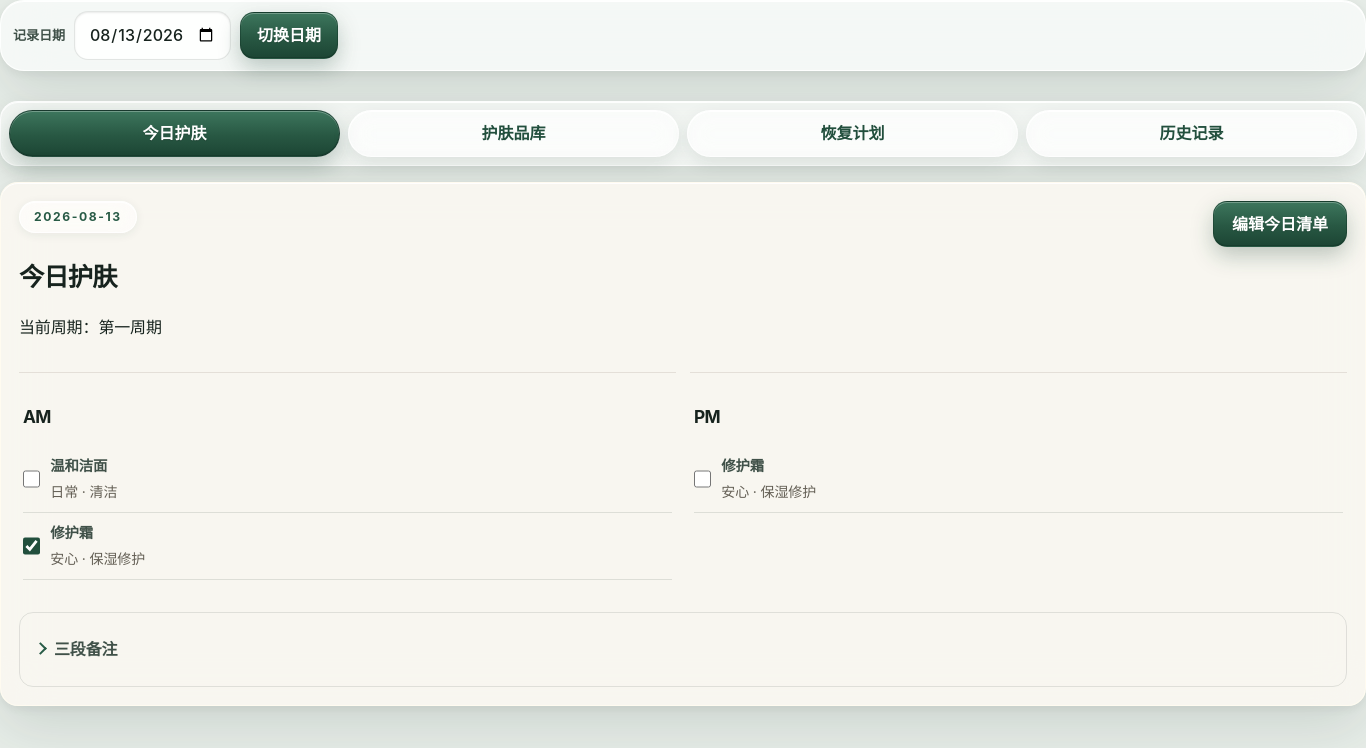
Test: ManualSkincareWorkspace › shows natural-day countdown facts and starts a custom-duration cycle only after confirmation
This screenshot has width=1366, height=748.
Click the tab "恢复计划": (852, 133) [687,110,1018,157]
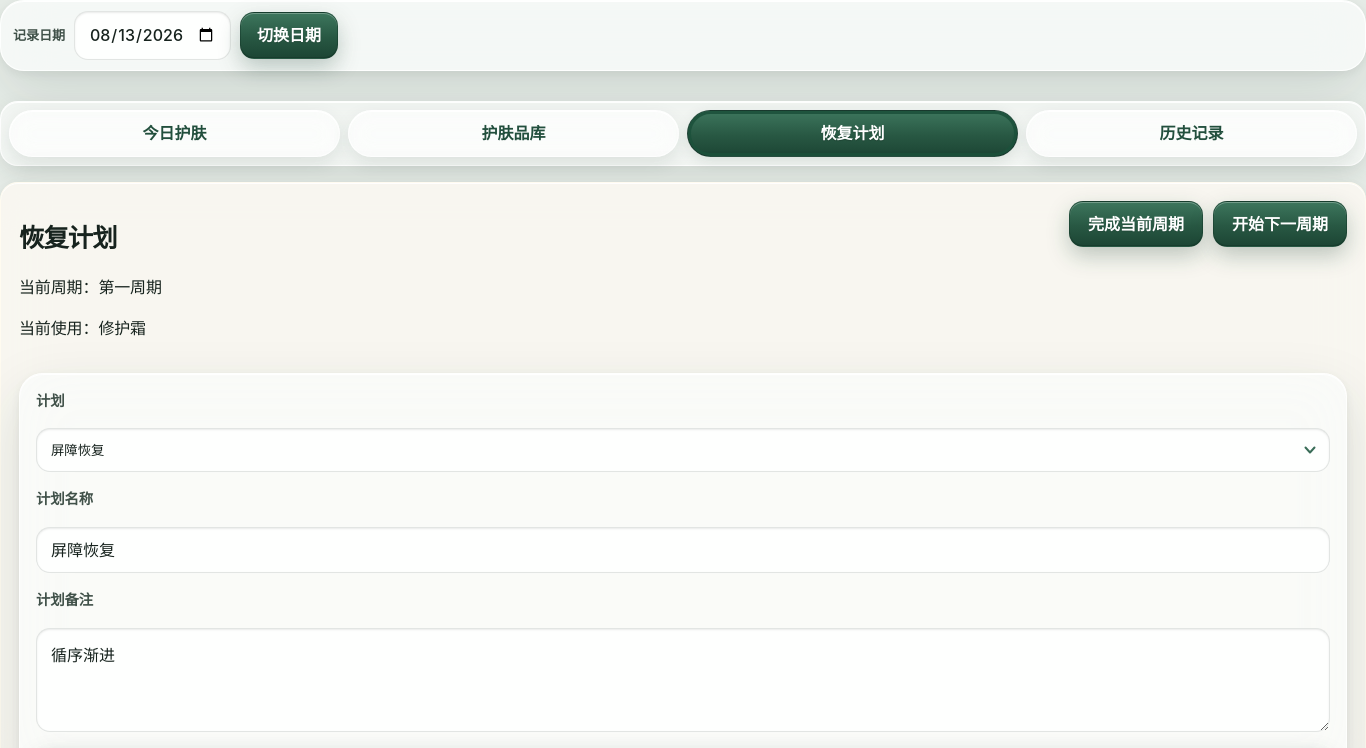
Check: the text "当前使用：修护霜" is shown, box [19,316,162,341]
Click the button "开始下一周期": (1280, 224) [1213,201,1347,247]
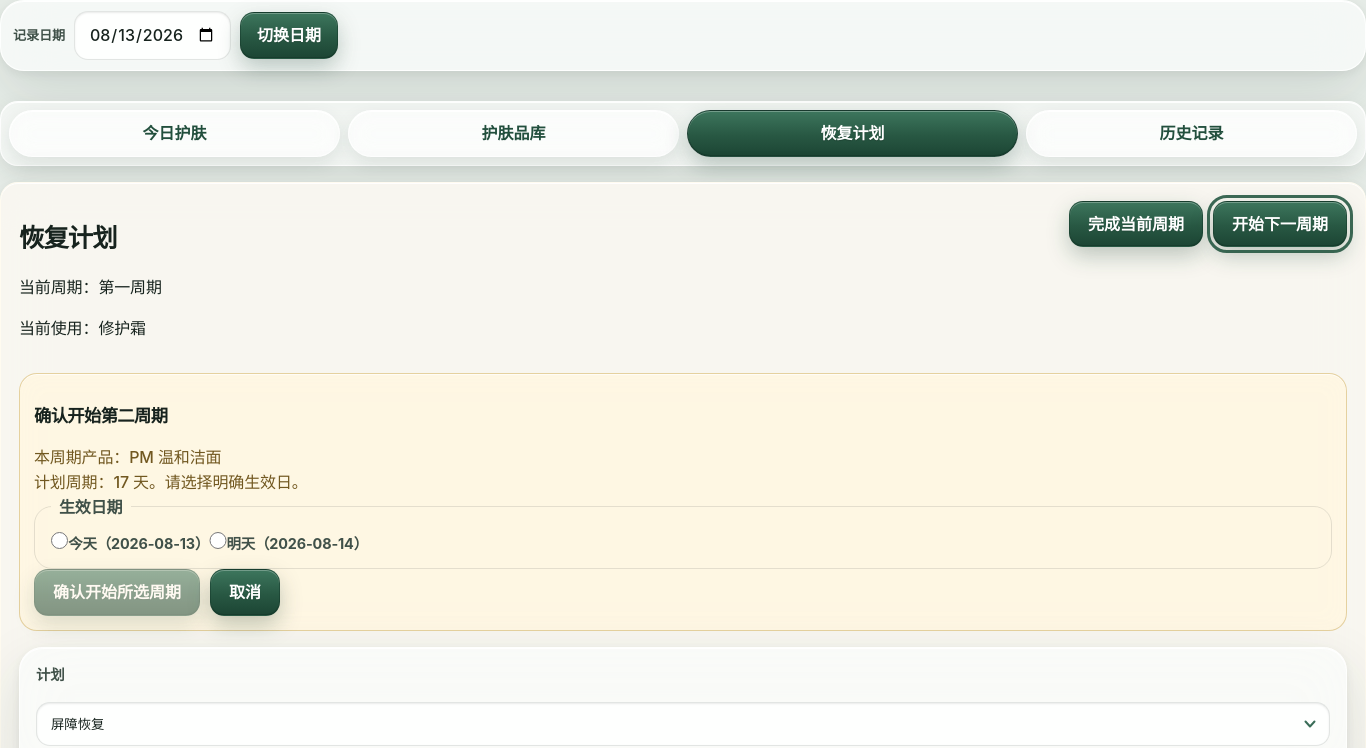
Check: the heading "确认开始第二周期" is shown, box [34,405,167,426]
Check: the radio button labelled "今天（2026-08-13）" is shown
Check: the radio button labelled "明天（2026-08-14）" is shown, box [209,532,227,549]
Click the radio button labelled "今天（2026-08-13）": (60, 541) [51,532,68,549]
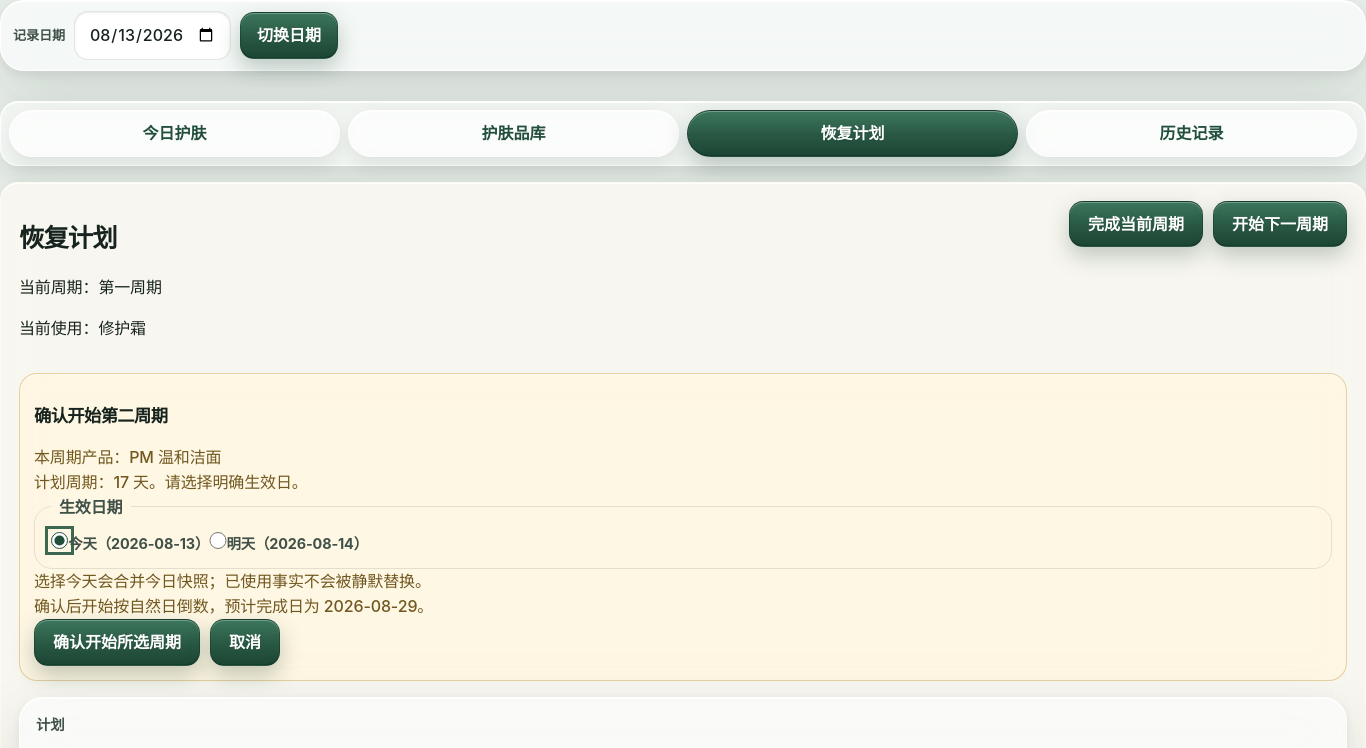
Check: the button "确认开始所选周期" is shown, box [34,619,200,666]
Check: the text "确认后开始按自然日倒数，预计完成日为 2026-08-29。" is shown, box [34,596,433,616]
